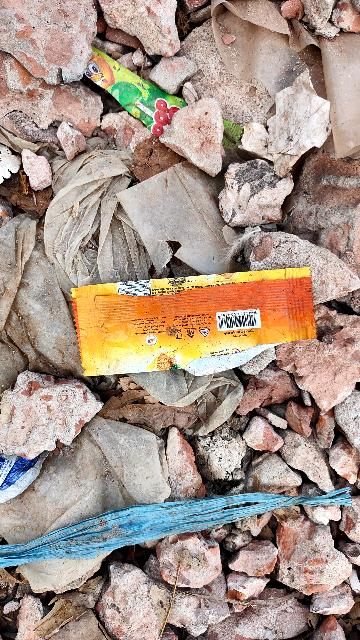packet: (71, 251, 334, 377), (66, 35, 206, 153)
